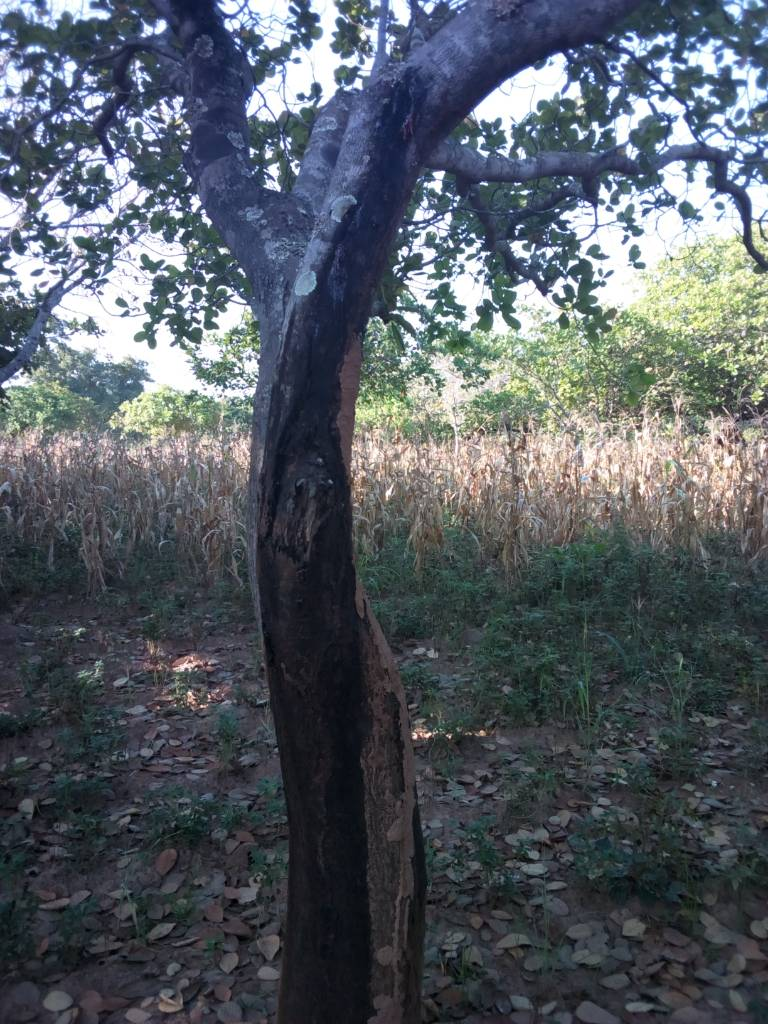Termites: (350, 594, 421, 1013)
